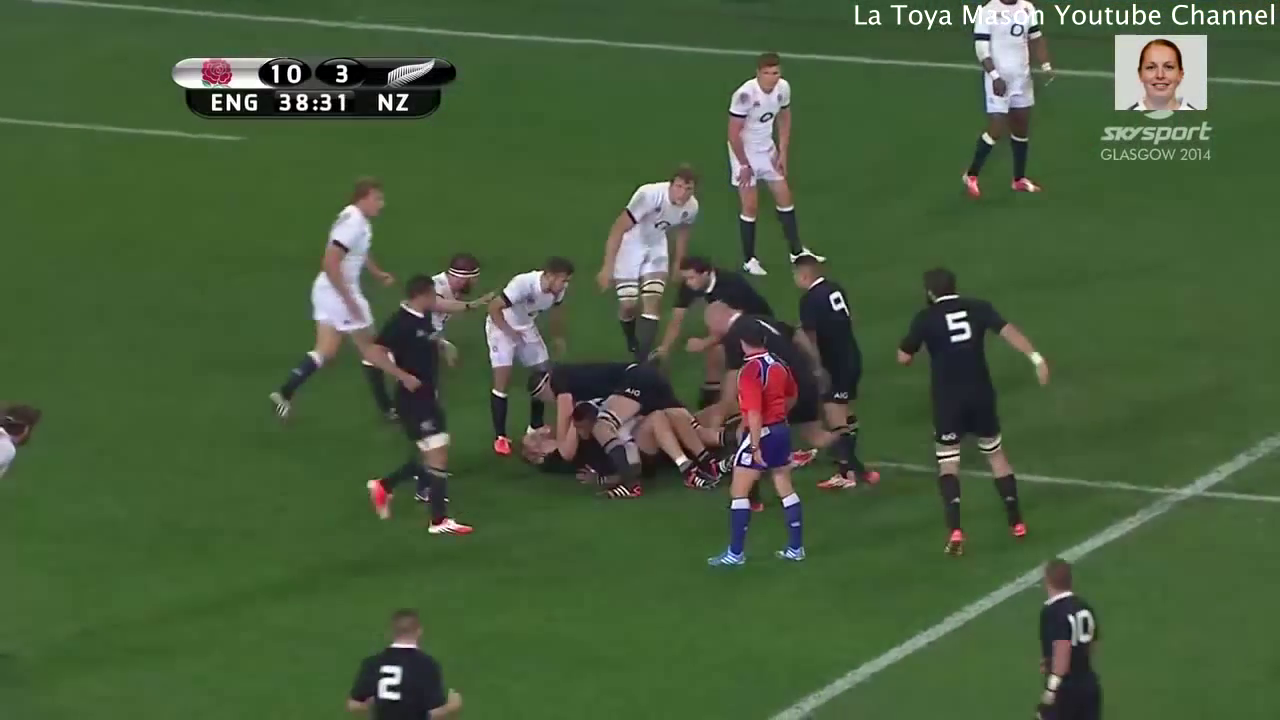player: (897, 264, 1050, 561), (265, 176, 387, 430), (699, 318, 820, 568), (363, 276, 474, 544), (715, 45, 830, 268), (782, 251, 877, 492), (596, 167, 708, 363), (489, 254, 583, 461), (960, 1, 1051, 201), (336, 600, 468, 720), (1033, 554, 1111, 720), (649, 244, 778, 336), (517, 362, 671, 421), (1, 397, 58, 497)
ruck: (496, 334, 808, 498)
